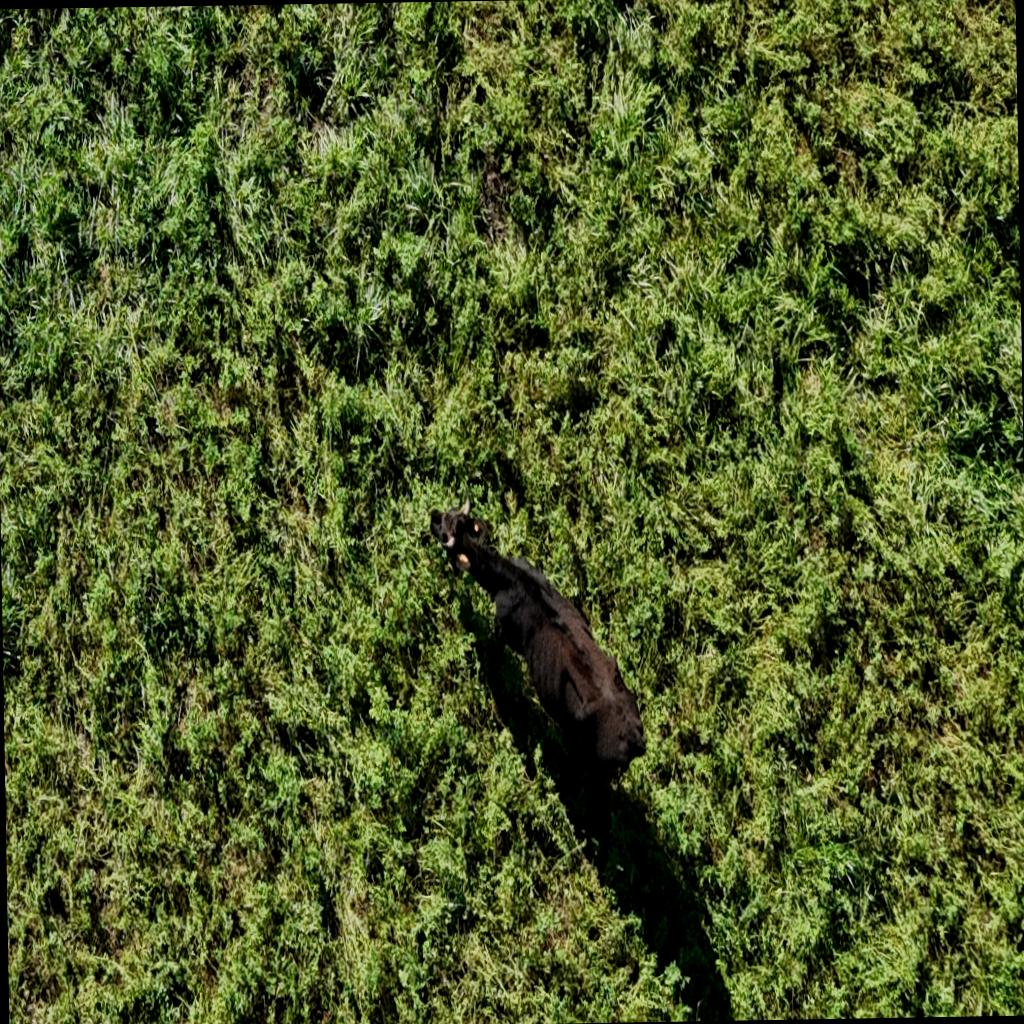cow: (425, 478, 660, 828)
